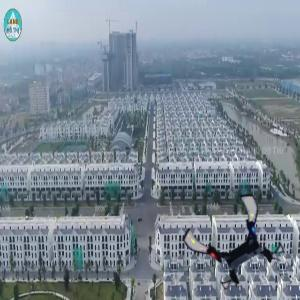drone: (191, 201, 277, 287)
